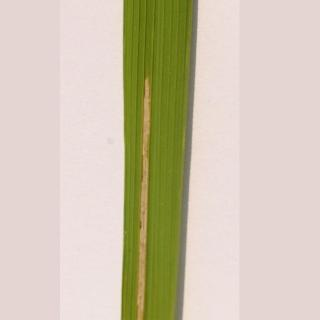Hawar-Daun: (125, 84, 161, 316)
